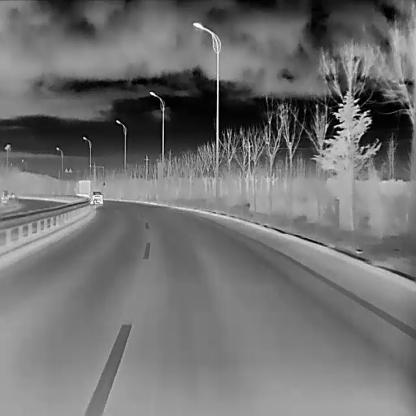car: (89, 190, 103, 204)
truck: (74, 178, 90, 196)
